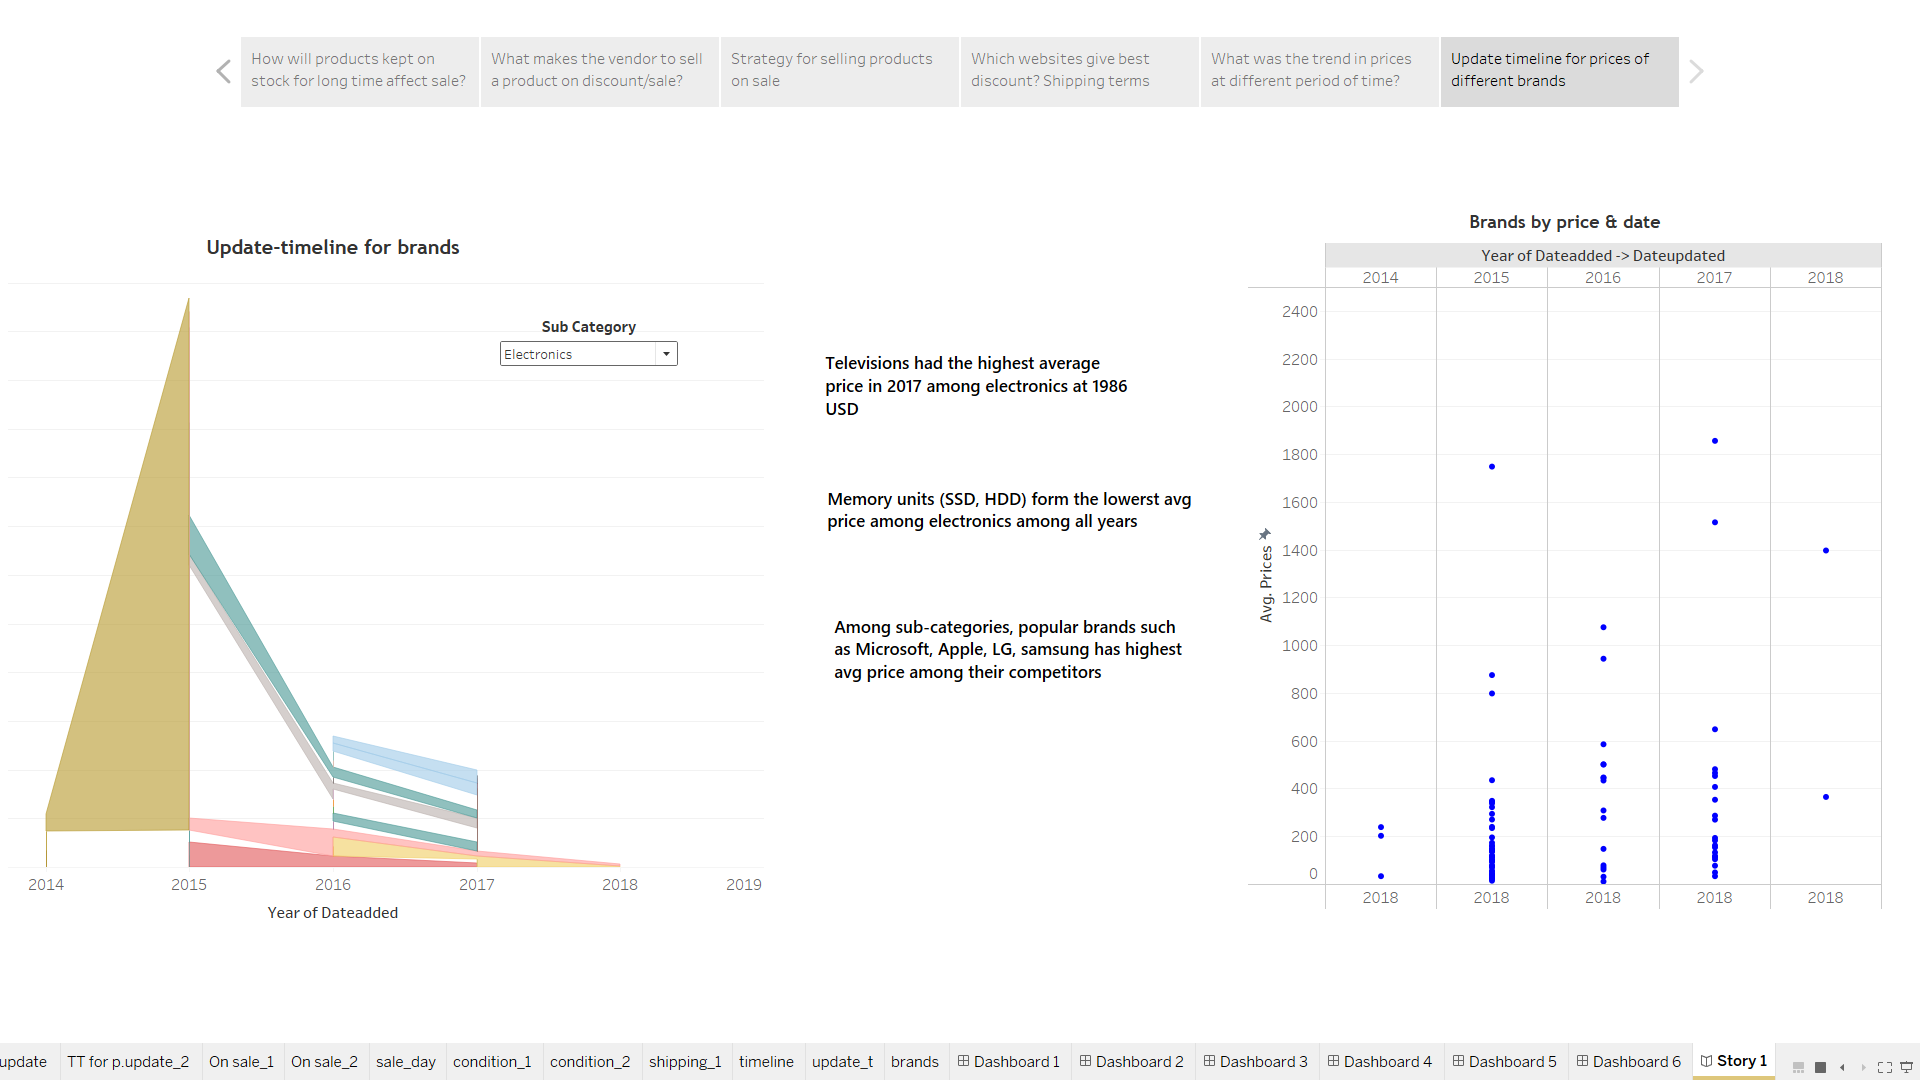

What the dashboard file says about the page in this screenshot:
{"tool":"tableau","page":{"name":"Dashboard 1","canvas":[1000,1000],"units":"permille","ordinal":0},"visuals":[{"type":"worksheet","title":"TT for p.update","mark":"Automatic","rows":["sub category 1"],"cols":["Time to update (in weeks)"],"box":[4.2,5.8,519.6,751.5]},{"type":"text","box":[9.7,18.6,980.7,962.8]},{"type":"worksheet","title":"TT for p.update_2","mark":"Automatic","box":[535.9,53.4,464.1,620.2]},{"type":"legend","title":"TT for p.update_2","param":"[federated.1vl33a51myhwji18jspvm1r1us8n].[avg:Time to update (in weeks):qk]","box":[699.5,679.4,174.4,102.2]},{"type":"filter","title":"TT for p.update","param":"[federated.1vl33a51myhwji18jspvm1r1us8n].[none:Availability:nk]","box":[54.9,773.5,126.7,205.6]},{"type":"text","box":[564.3,796.8,333.1,66.2]},{"type":"text","box":[277,832.8,245,104.5]},{"type":"text","box":[561.3,880.4,333.1,95.2]}]}

Visuals, with their boxes on the dashboard's canvas, which has no fixed pixel size, in thousandths of its width and height (x1, y1, x2, y2). These are canvas units, not pixel positions in the 1920x1080 screenshot, which may show the page scaled, cropped or inside an application window:
"TT for p.update" worksheet: [4,6,524,757]
text: [10,19,990,981]
"TT for p.update_2" worksheet: [536,53,1000,674]
"TT for p.update_2" legend: [700,679,874,782]
"TT for p.update" filter: [55,774,182,979]
text: [564,797,897,863]
text: [277,833,522,937]
text: [561,880,894,976]
